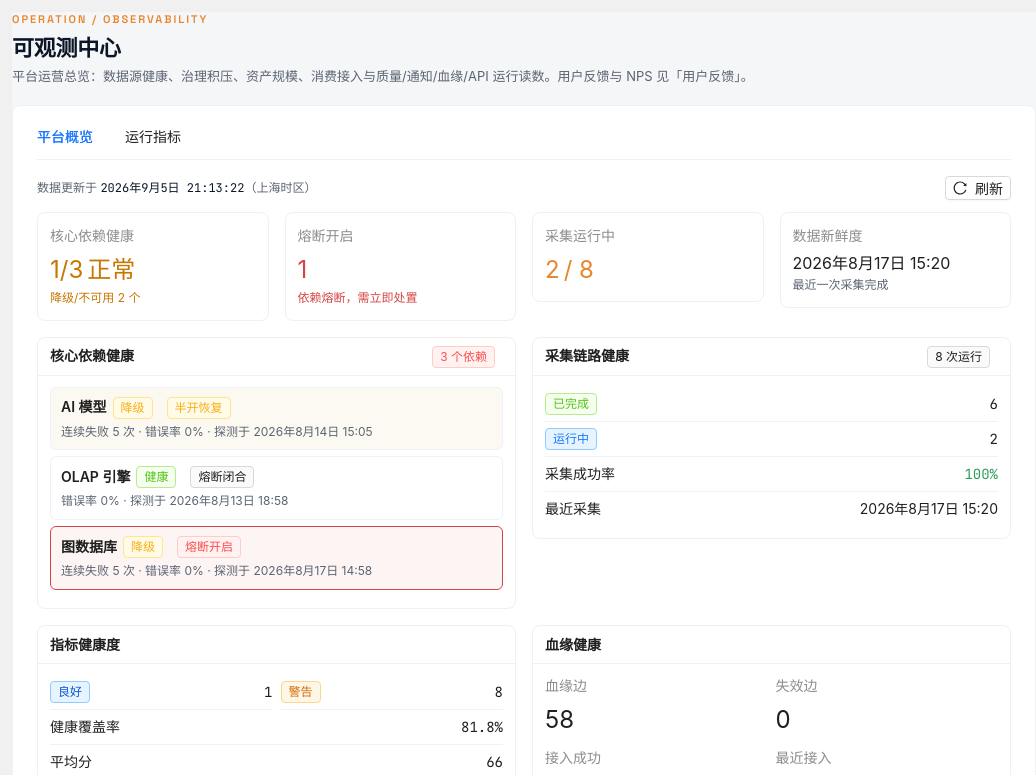
Observability 可观测中心 › 运行指标 Tab 展示最近质量事件明细：级别/规则/状态中文 + 指标名 + 观测值/阈值
Expected: the tab "平台概览" is shown, x1=37 y1=126 x2=93 y2=148
Step 1. Click the tab "运行指标" → (153, 137), box x1=125 y1=126 x2=181 y2=148
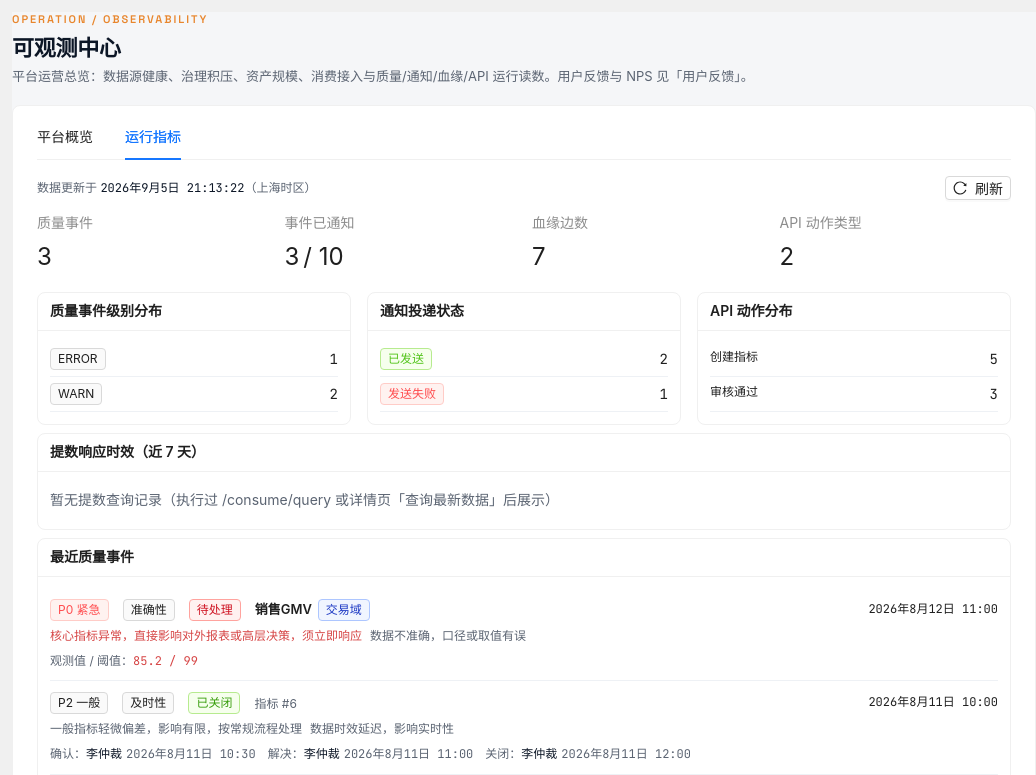
Expected: the text "最近质量事件" is shown, x1=50 y1=548 x2=134 y2=565
Expected: the text "P0 紧急" is shown, x1=50 y1=599 x2=109 y2=621
Expected: the text "P2 一般" is shown, x1=50 y1=692 x2=108 y2=714
